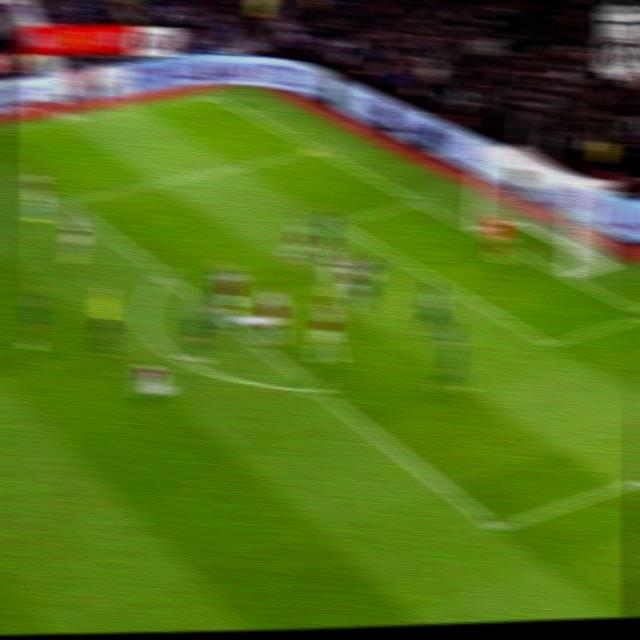bigarea_bottom_inner: (478, 507, 514, 547)
bigarea_top_inner: (52, 188, 77, 212)
bigarea_top_outter: (304, 139, 329, 158)
bottom_arc_area_intersection: (301, 374, 331, 402)
corner: (196, 85, 224, 101)
smallarea_bottom_inner: (532, 325, 566, 360)
smallarea_bottom_outter: (628, 296, 640, 328)
smallarea_top_inner: (325, 209, 350, 232)
smallarea_top_outter: (404, 188, 431, 212)
top_arc_area_intersection: (151, 265, 177, 286)
